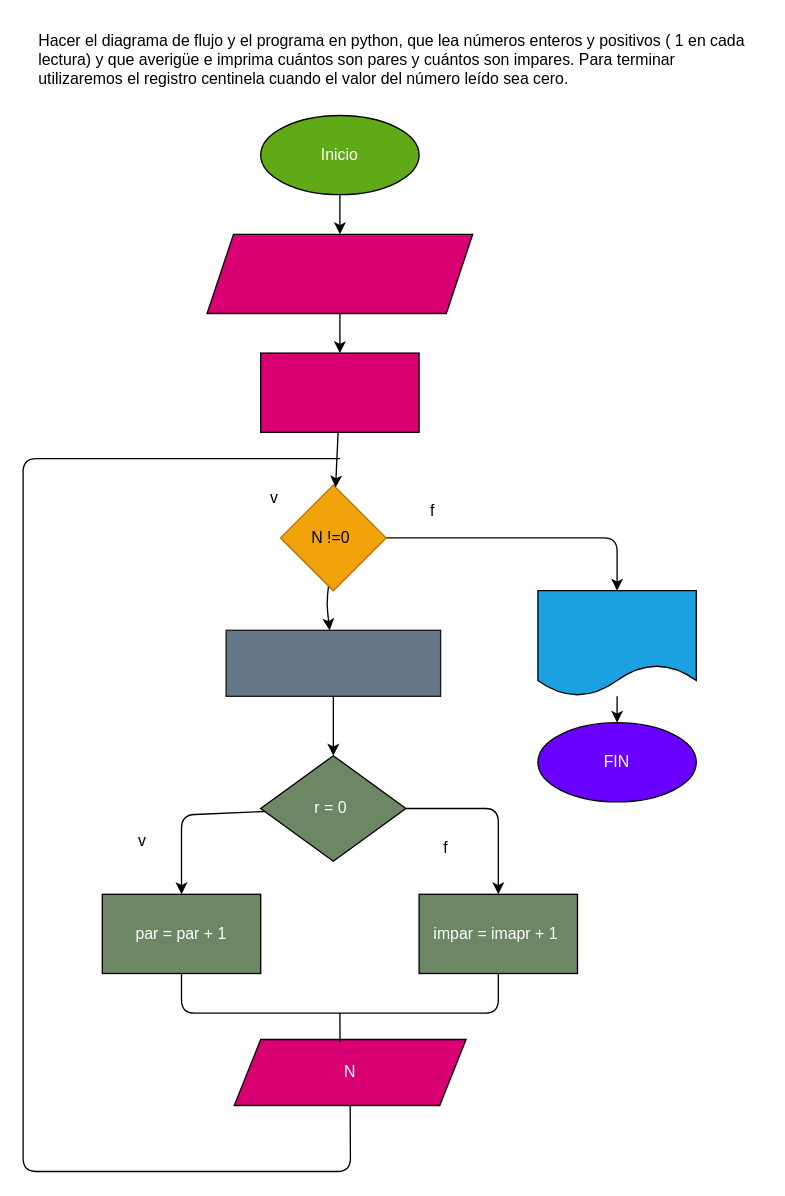
The diagram is 785 pixels wide and 1196 high, and some of its shapes have lost their labels. The shapes that lost their labels are listed below. From the top down, each one's centre as x and y in pixels, then its label:
At point (339, 273): "N = Numeros".
At point (339, 392): "PAR = 0 IMPAR = 0".
At point (333, 662): "d = (n % 2 )".
At point (616, 642): "no es par ni impar".
